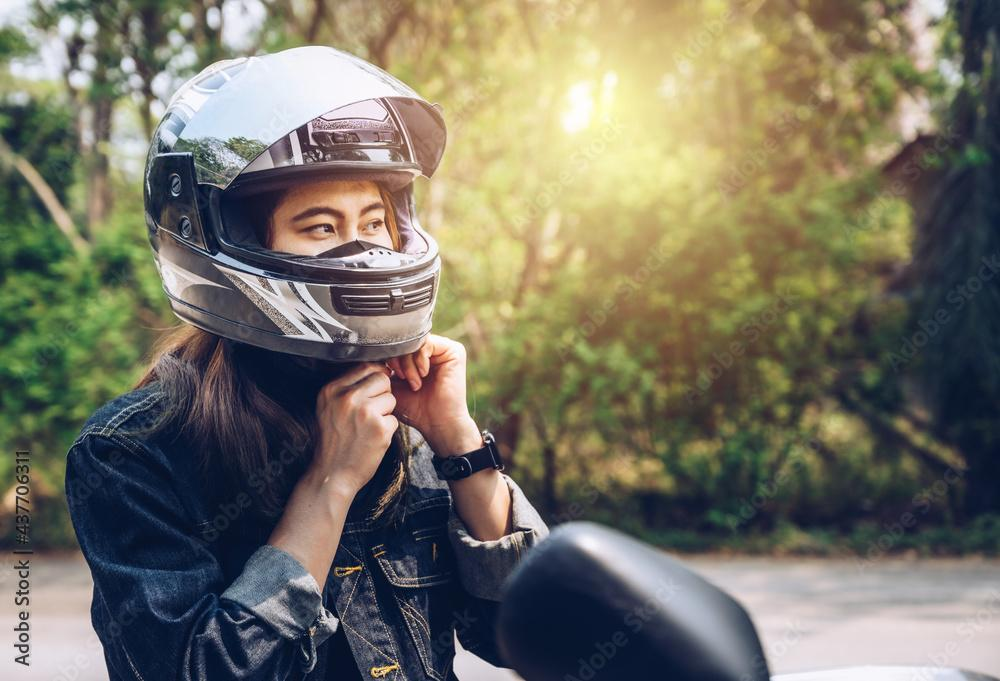helmet: (142, 43, 450, 365)
